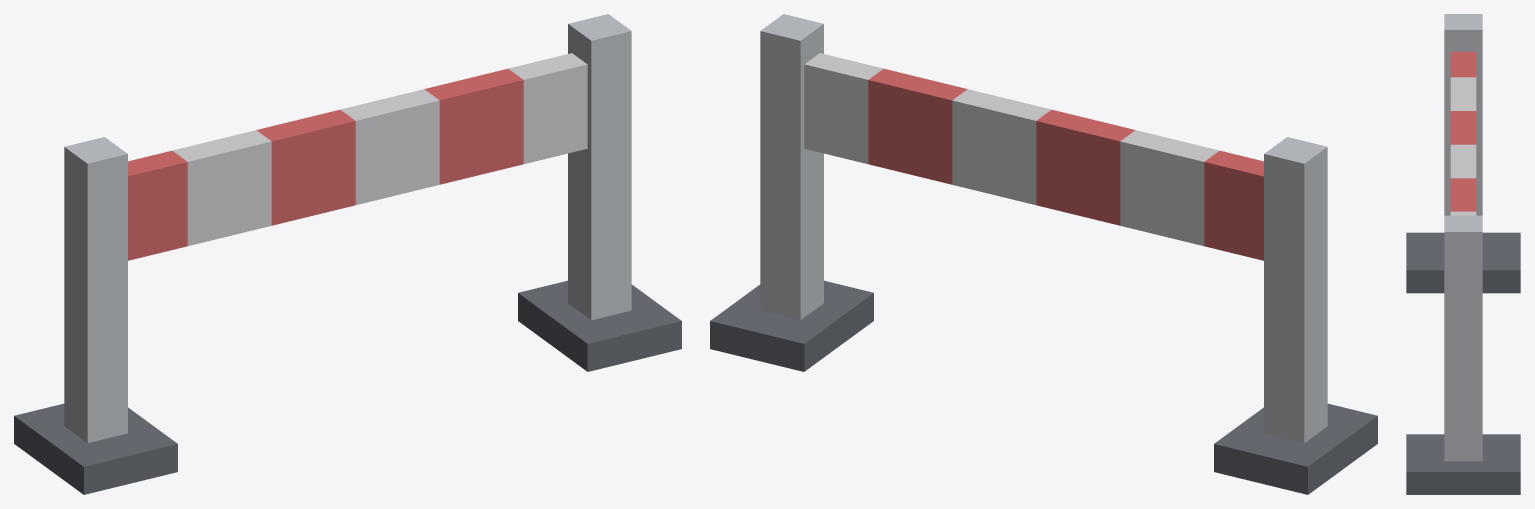
File: 08_railway_barrier.glb
3 renders of one model, left to right at view 1: azimuth 30°, elevation 25°; view 2: azimuth 150°, elevation 25°; view 3: azimuth 270°, elevation 25°, orthographic. The views are drawn at different scales.
Visible parts, largest first — view 1: RailwayBarrier; view 2: RailwayBarrier; view 3: RailwayBarrier.
Boxes of the visible parts, x1,y1,x2,y2 form: RailwayBarrier: [14, 14, 681, 494]; RailwayBarrier: [710, 14, 1377, 494]; RailwayBarrier: [1406, 14, 1520, 494].
Size of the model in its own units: 1.78 by 0.875 by 0.36.
